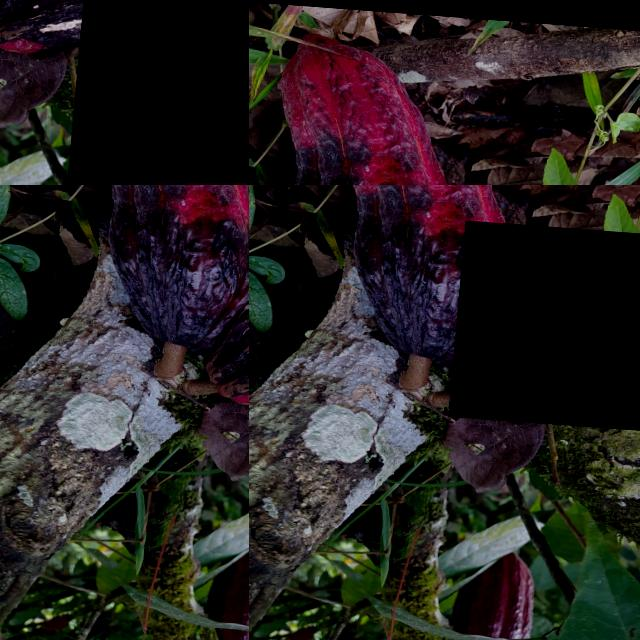Fitoftora: (320, 185, 536, 356)
Monilia: (455, 216, 640, 432), (379, 128, 593, 185)
Sana: (73, 0, 249, 185), (450, 12, 632, 84), (457, 541, 550, 640)
